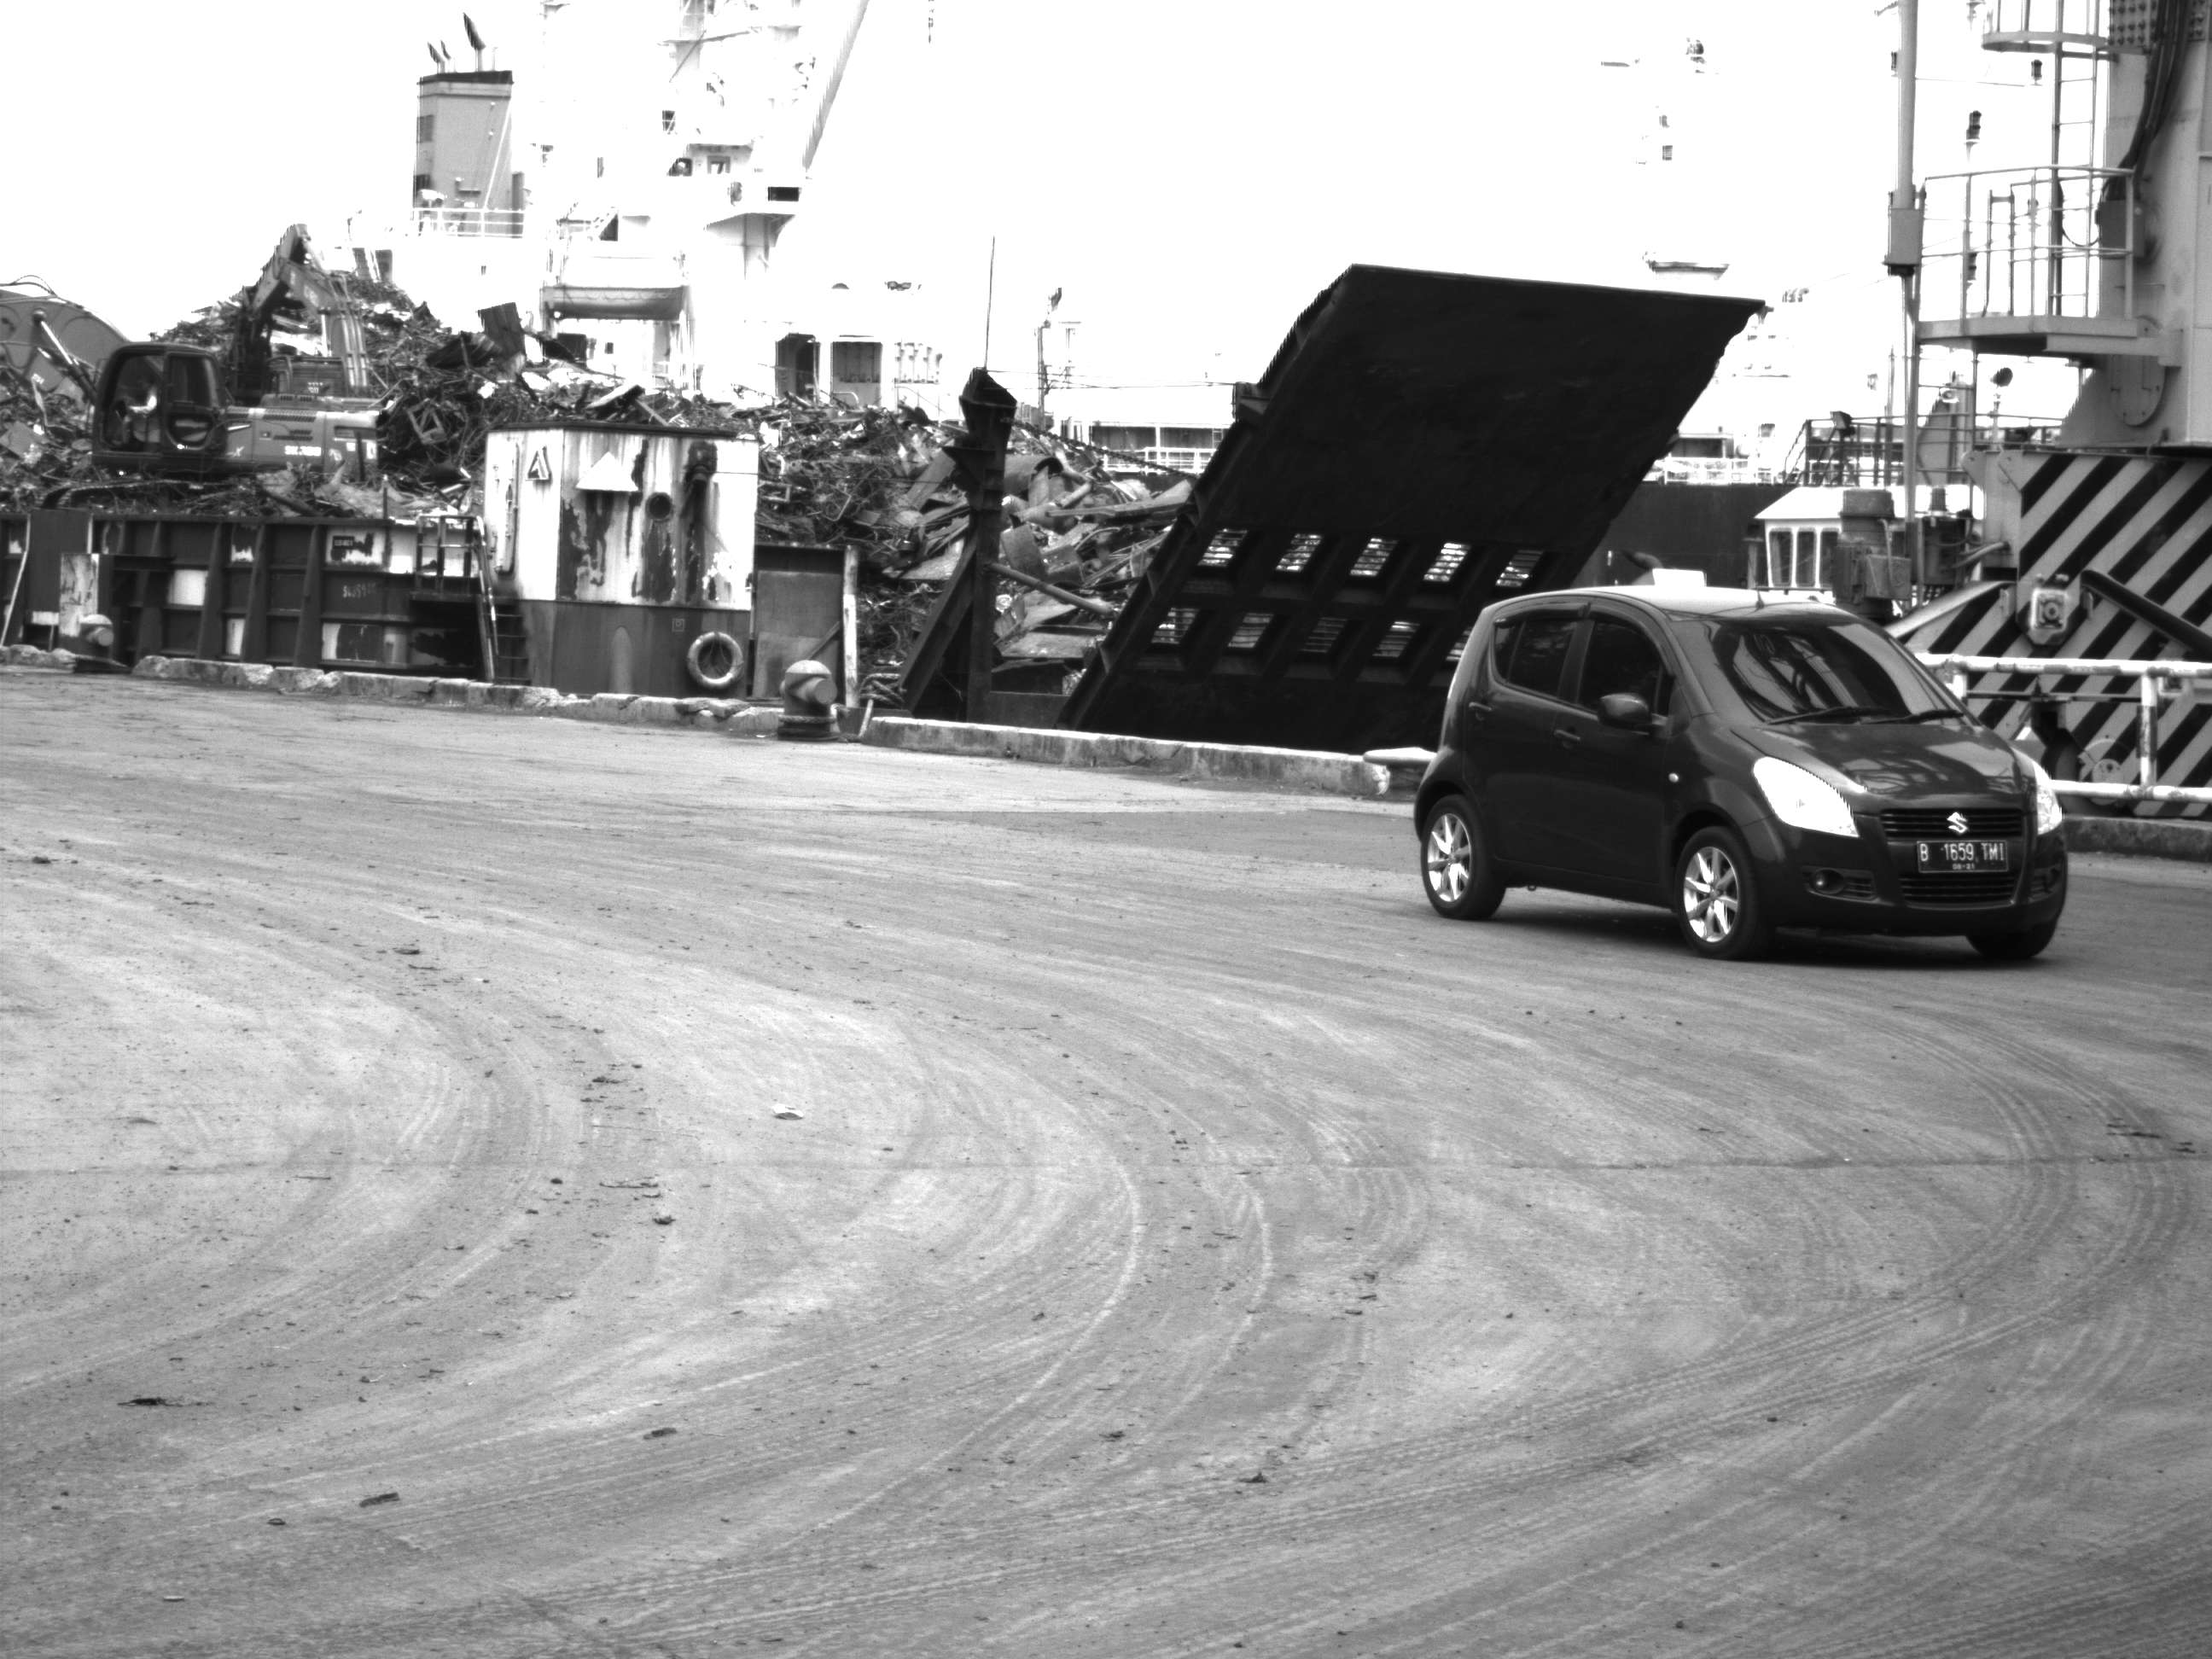car: (1394, 568, 2107, 981)
number_plate: (1912, 835, 2023, 876)
